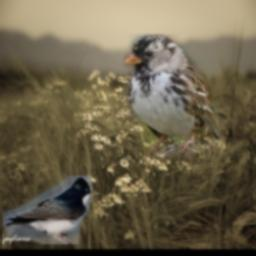Sparrow: (124, 35, 221, 159)
Swallow: (4, 176, 93, 244)
